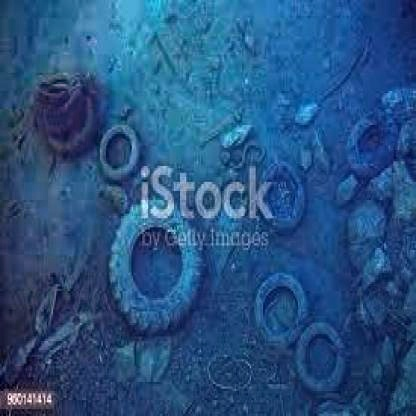tire: (102, 202, 204, 330), (21, 68, 97, 152), (239, 150, 316, 230), (240, 270, 309, 341), (281, 312, 342, 384), (88, 118, 151, 175), (343, 109, 396, 166)
